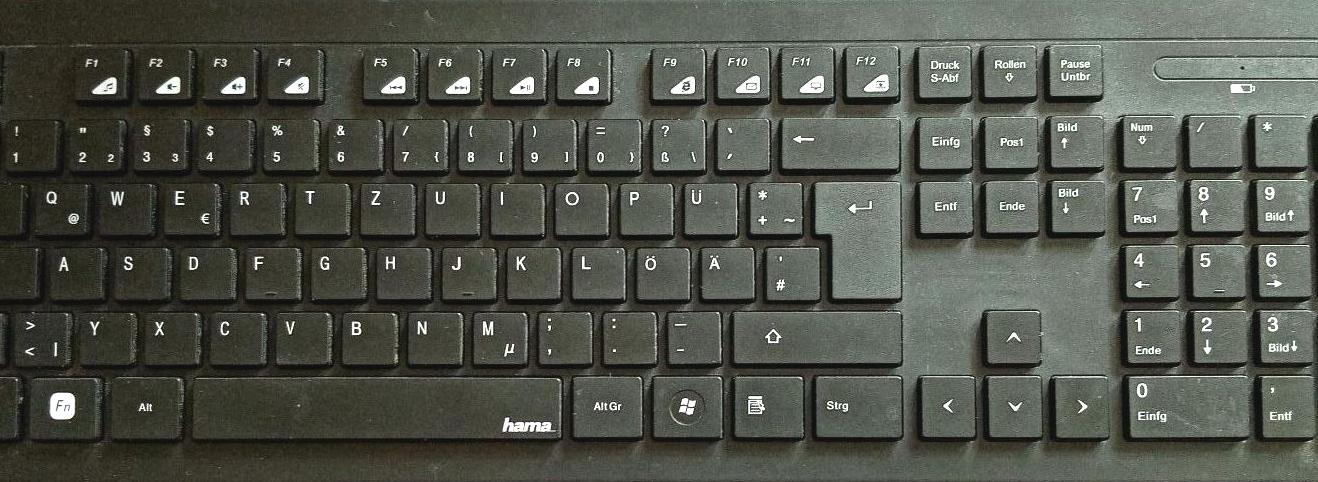0: (582, 114, 641, 172)
1: (1, 114, 60, 172)
2: (66, 115, 125, 173)
3: (130, 114, 188, 172)
4: (194, 115, 253, 171)
5: (260, 115, 318, 171)
6: (325, 114, 383, 172)
7: (390, 114, 448, 172)
8: (454, 114, 512, 173)
9: (518, 114, 576, 172)
a: (46, 244, 104, 301)
accent: (712, 114, 769, 171)
ae: (696, 242, 755, 301)
alt-left: (105, 372, 183, 441)
altgr-right: (567, 371, 643, 438)
b: (336, 307, 397, 366)
c: (206, 308, 266, 366)
caret: (1, 116, 29, 172)
comma: (533, 306, 592, 365)
d: (176, 244, 236, 301)
del: (777, 112, 899, 168)
e: (160, 177, 220, 237)
enter: (810, 177, 901, 301)
f: (241, 243, 301, 300)
g: (307, 243, 366, 300)
h: (372, 243, 431, 301)
hash: (761, 241, 819, 300)
i: (486, 178, 543, 236)
j: (437, 242, 496, 300)
k: (502, 242, 561, 301)
keyboard: (1, 1, 1318, 482)
l: (567, 242, 626, 301)
less: (9, 306, 69, 367)
m: (468, 307, 527, 366)
minus: (661, 306, 720, 364)
n: (403, 308, 462, 366)
o: (549, 178, 608, 236)
oe: (631, 243, 690, 301)
p: (615, 178, 672, 236)
plus: (743, 176, 802, 235)
point: (597, 307, 657, 365)
q: (29, 179, 89, 236)
r: (226, 179, 285, 237)
s: (111, 244, 170, 301)
shift-left: (1, 309, 37, 366)
shift-lock: (1, 243, 53, 300)
shift-right: (728, 306, 903, 362)
space: (187, 372, 562, 441)
ss: (647, 114, 705, 171)
strg-left: (1, 371, 48, 441)
strg-right: (808, 370, 905, 439)
t: (291, 178, 350, 236)
tab: (1, 179, 43, 236)
u: (420, 178, 479, 237)
ue: (678, 177, 737, 237)
v: (271, 307, 331, 366)
w: (96, 180, 155, 236)
x: (142, 309, 201, 366)
y: (76, 309, 135, 366)
z: (356, 178, 415, 236)
